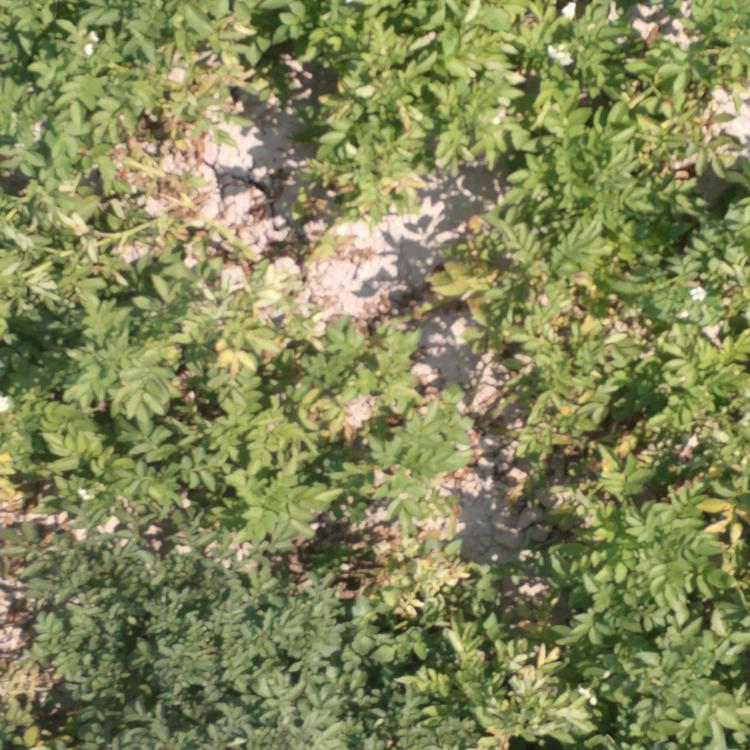healthy: (250, 1, 739, 200), (1, 291, 187, 740), (1, 6, 239, 281), (499, 530, 741, 750), (206, 619, 481, 740)
stressed: (445, 202, 749, 531), (187, 313, 441, 610)
